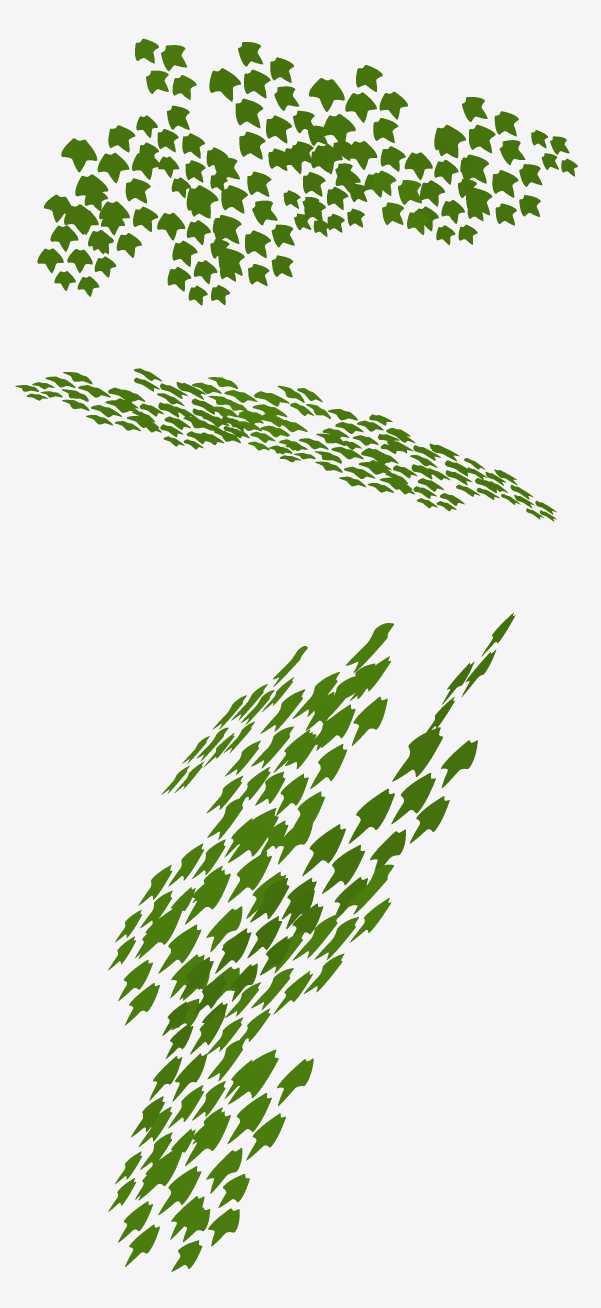
File: Prop_Vine9.glb
The picture shows the model from 3 angles, top to bottom: view 1: azimuth 30°, elevation 25°; view 2: azimuth 150°, elevation 25°; view 3: azimuth 270°, elevation 25°; orthographic projection. The views are drawn at different scales.
Visible parts, largest first — view 1: Prop_Vine9; view 2: Prop_Vine9; view 3: Prop_Vine9.
Part boxes in pixels (x1,y1,x2,y2): Prop_Vine9: (37, 38, 577, 305); Prop_Vine9: (15, 368, 556, 521); Prop_Vine9: (108, 612, 515, 1271).
Bounding box in the file's own units: 4.14 × 1.47 × 1.47.
1 material, 1 textured.
